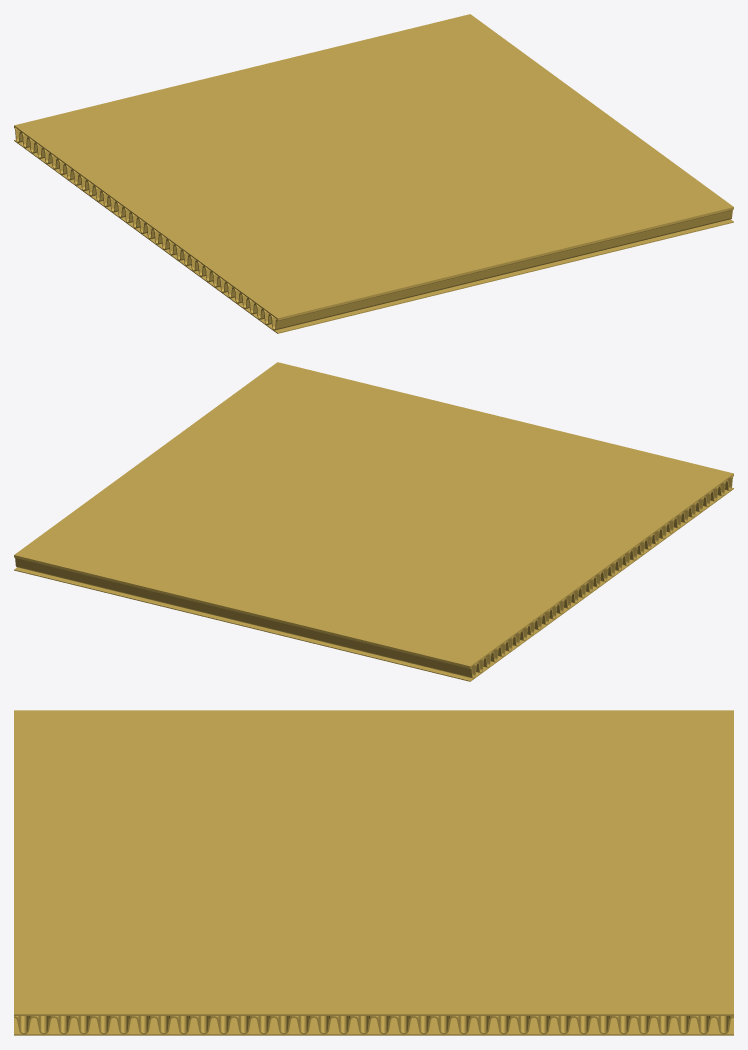
Rendered from cardboard+01.fbx.
The picture shows the model from 3 angles, top to bottom: view 1: azimuth 30°, elevation 25°; view 2: azimuth 150°, elevation 25°; view 3: azimuth 270°, elevation 25°; orthographic projection. The views are drawn at different scales.
Visible parts, largest first — view 1: cardboard_3_49_64x1; view 2: cardboard_3_49_64x1; view 3: cardboard_3_49_64x1.
Part boxes in pixels (x1,y1,x2,y2): cardboard_3_49_64x1: [14, 14, 733, 333]; cardboard_3_49_64x1: [14, 362, 733, 681]; cardboard_3_49_64x1: [14, 710, 733, 1035].
Bounding box in the file's own units: 7.77 × 0.2536 × 7.77.
